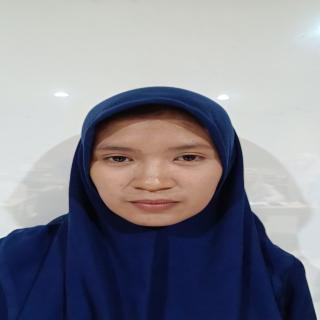Netral: (87, 98, 230, 234)
